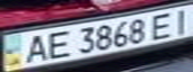3: (75, 25, 96, 54)
6: (112, 19, 133, 48)
8: (127, 16, 154, 44), (93, 21, 115, 52)
A: (18, 31, 51, 64)
E: (42, 28, 75, 61), (145, 10, 181, 39)
I: (166, 6, 193, 35)
